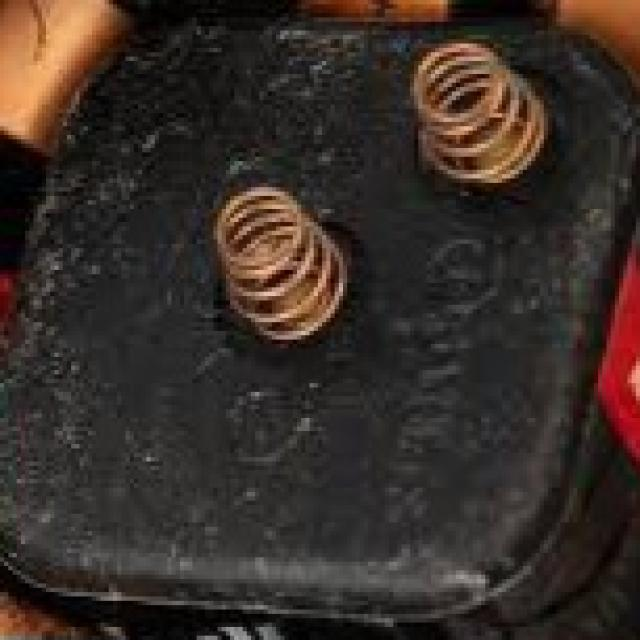battery: (12, 0, 640, 636)
